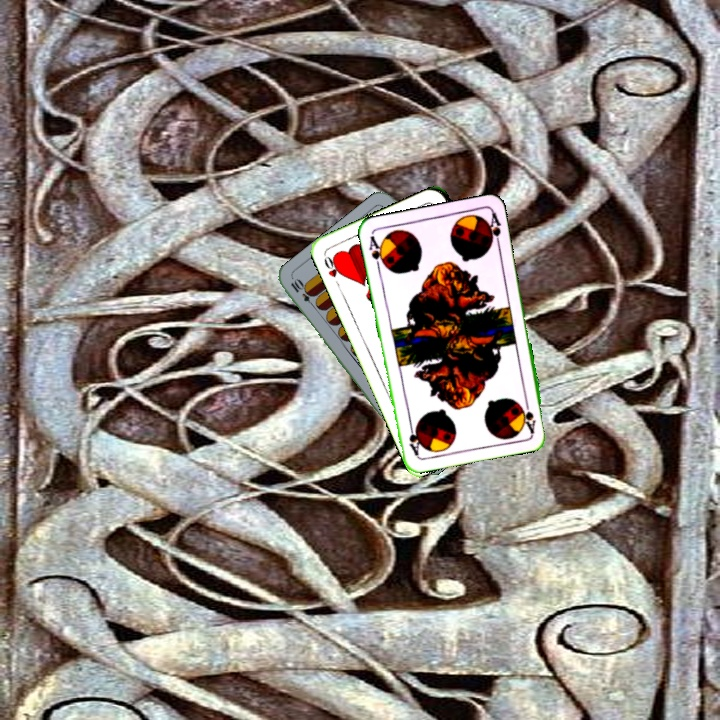E10: (286, 276, 319, 311)
HO: (320, 251, 345, 289)
SA: (364, 232, 388, 272), (518, 394, 538, 435)
